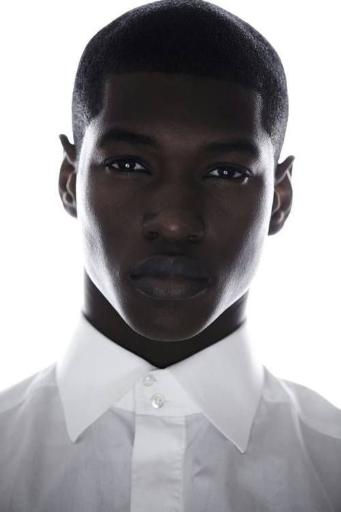left_eye: (201, 163, 253, 188)
left_lip_corner: (201, 273, 213, 292)
right_eye: (105, 156, 154, 180)
right_lip_corner: (127, 270, 144, 289)
